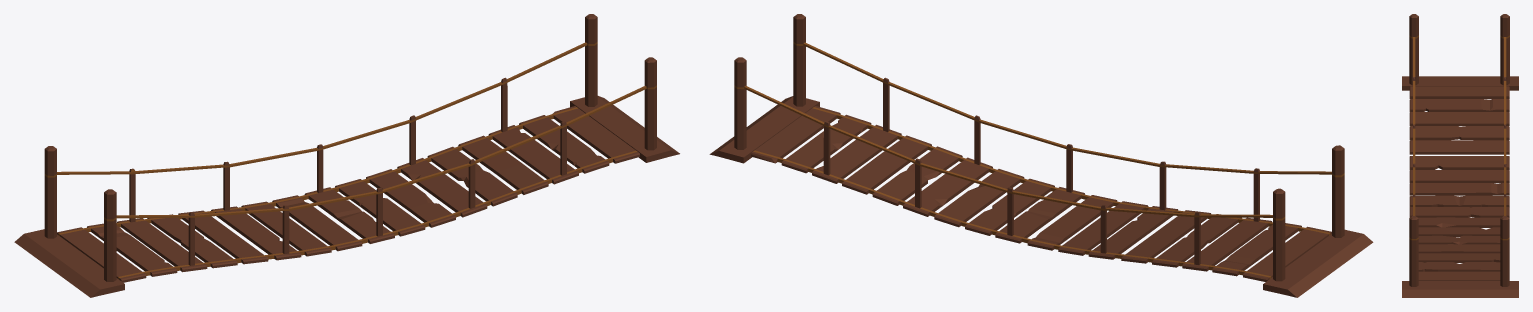
Rendered from SM_Wooden_Bridge_01.fbx.
3 views of the same model, side by side, from view 1: azimuth 30°, elevation 25°; view 2: azimuth 150°, elevation 25°; view 3: azimuth 270°, elevation 25° (orthographic). The views are drawn at different scales.
Visible parts, largest first — view 1: Wooden_Bridge_01; view 2: Wooden_Bridge_01; view 3: Wooden_Bridge_01.
Part boxes in pixels (x1,y1,x2,y2): Wooden_Bridge_01: (14, 14, 679, 297); Wooden_Bridge_01: (709, 14, 1373, 297); Wooden_Bridge_01: (1402, 14, 1518, 297).
Bounding box in the file's own units: 400 × 1784 × 330.
Materials: 1 (1 with a texture image).
